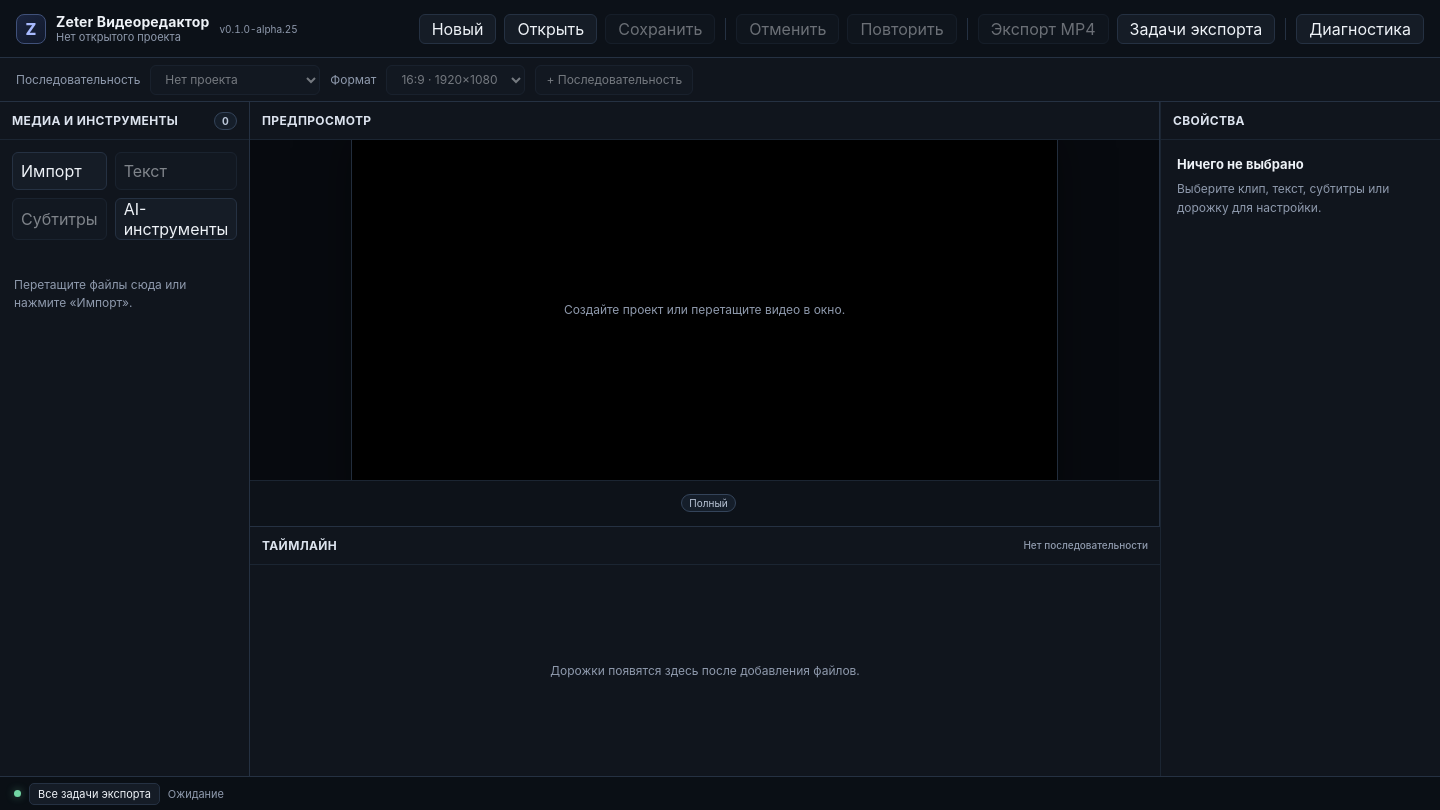
Scenario: AppShell missing-media recovery › offers explicit relink and reopens only after the verified replacement succeeds
Click the button with aria-label "Open project".
click(551, 28)  # box [504, 14, 597, 44]
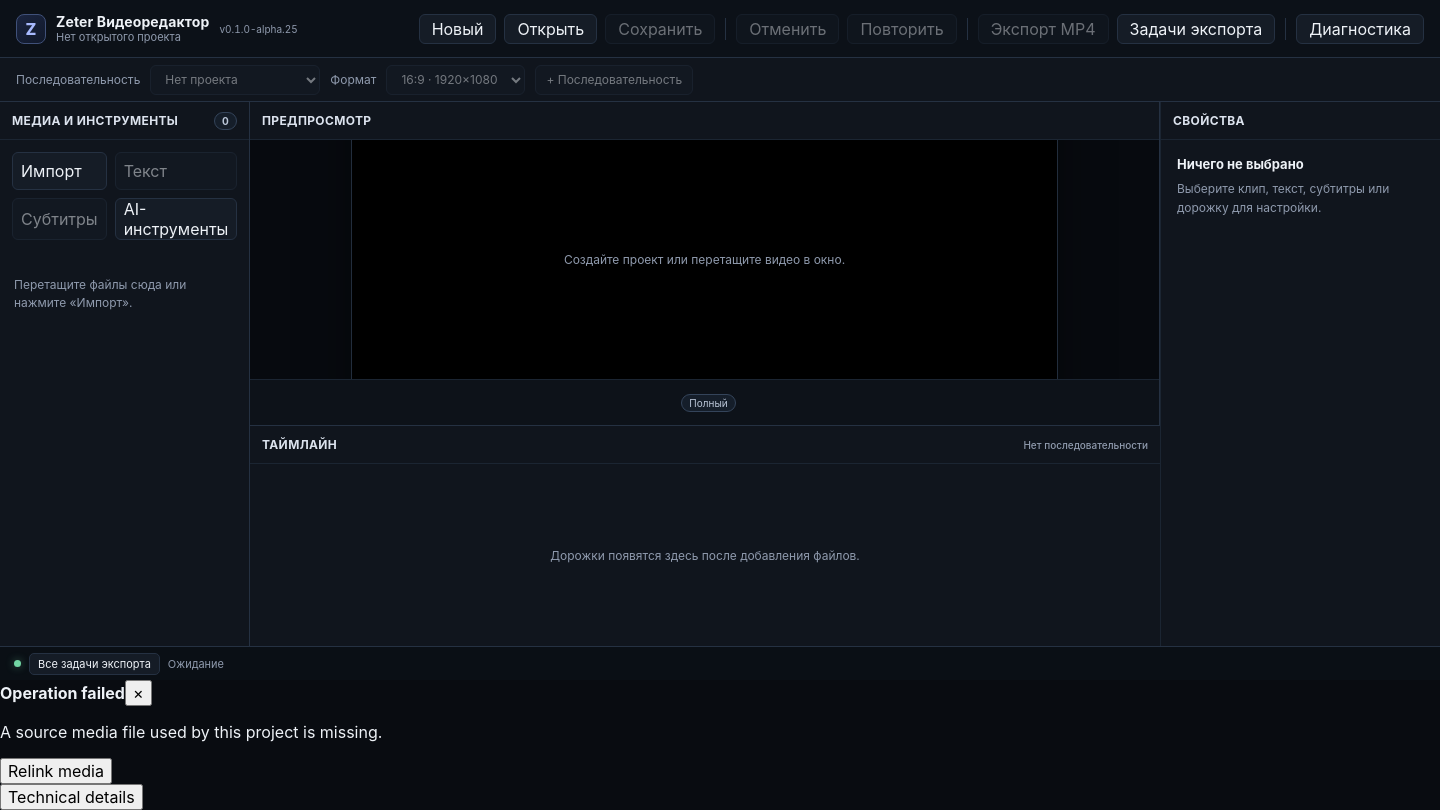
Click the button "Relink media".
click(56, 771)  # box [0, 758, 112, 784]
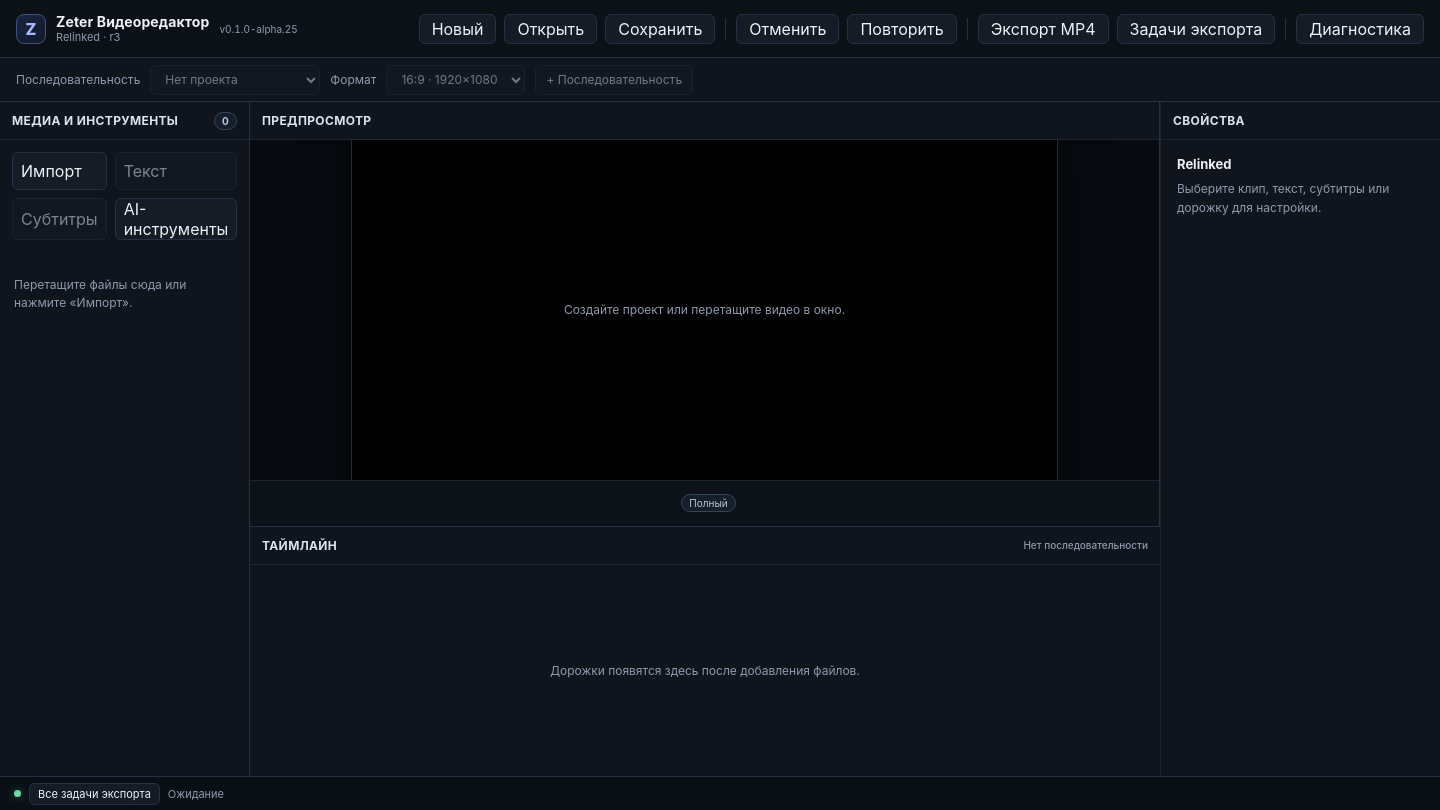
Check: the button "Relink media" is gone
